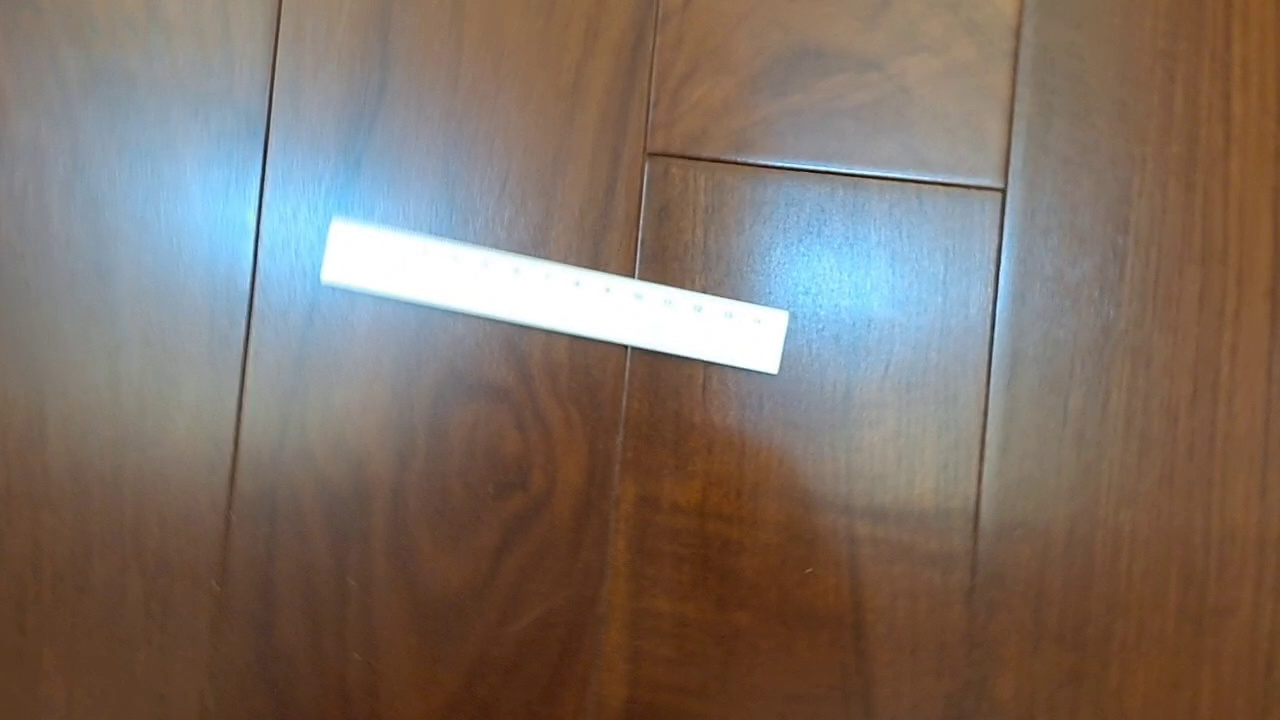ruler: (318, 210, 790, 377)
